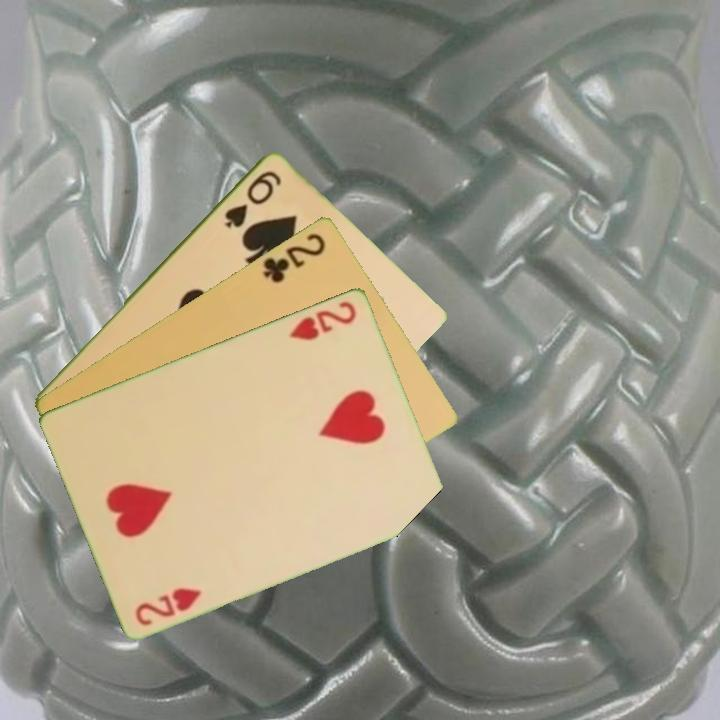2c: (259, 229, 329, 286)
2h: (286, 297, 360, 343), (132, 583, 205, 628)
6s: (221, 166, 285, 231)
